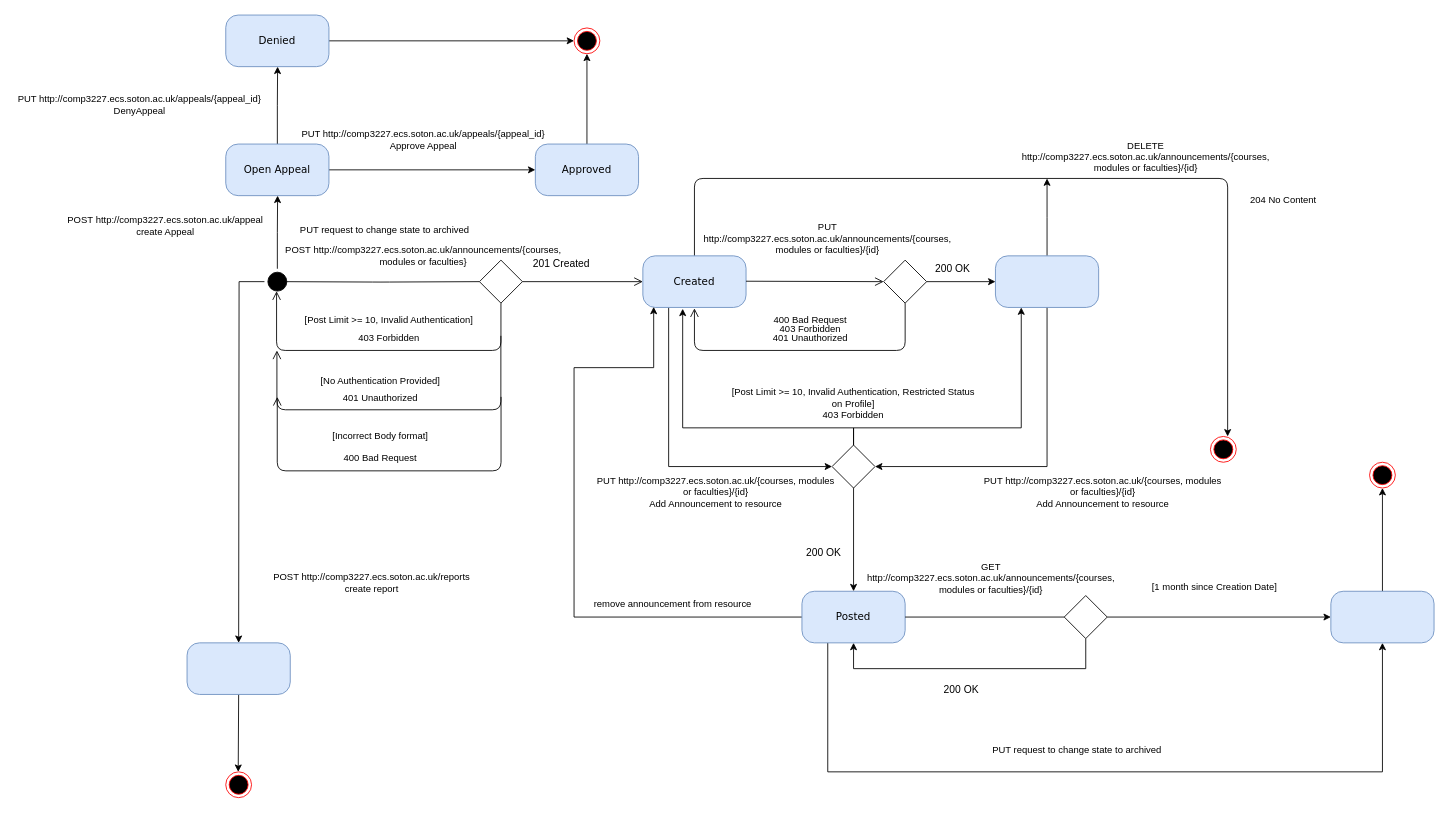
Some shapes in this 1449 by 813 pixel diagram are drawn without their labels. Here are the shapes that lost their labels. From the top down, the centre of each, then its label:
At [1047,281]: "Edited".
At [1382,616]: "Archived".
At [238,668]: "Reported".
